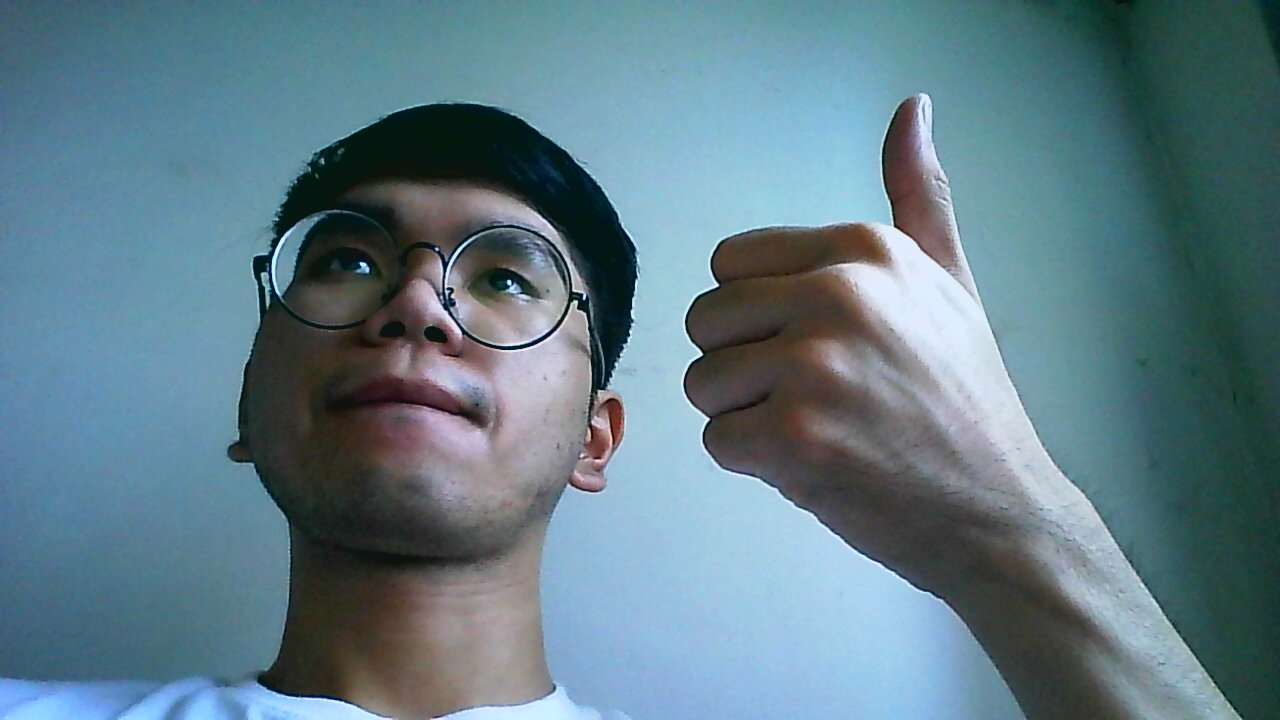thumbs: (681, 91, 1061, 582)
